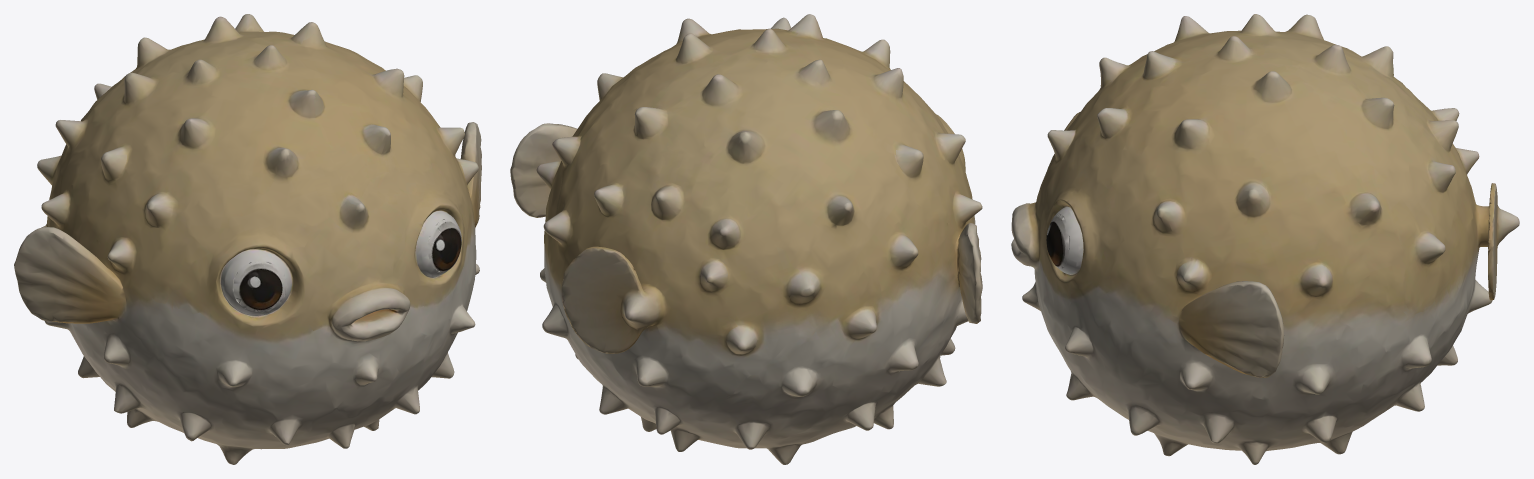
Rendered from nat_fish_puffer_v1.glb.
3 views of the same model, side by side, from view 1: azimuth 30°, elevation 25°; view 2: azimuth 150°, elevation 25°; view 3: azimuth 270°, elevation 25° (orthographic).
Parts seen in each view (by area): view 1: tripo_node_502d8290-1a9e-4d25-8195-db152b55f8ac; view 2: tripo_node_502d8290-1a9e-4d25-8195-db152b55f8ac; view 3: tripo_node_502d8290-1a9e-4d25-8195-db152b55f8ac.
Part boxes in pixels (left/top/right/bottom): tripo_node_502d8290-1a9e-4d25-8195-db152b55f8ac: left=14, top=14, right=481, bottom=464; tripo_node_502d8290-1a9e-4d25-8195-db152b55f8ac: left=510, top=14, right=982, bottom=464; tripo_node_502d8290-1a9e-4d25-8195-db152b55f8ac: left=1011, top=14, right=1519, bottom=464.
Bounding box in the file's own units: 0.978 × 0.8072 × 0.9062.
Materials: 1 (1 with a texture image).
